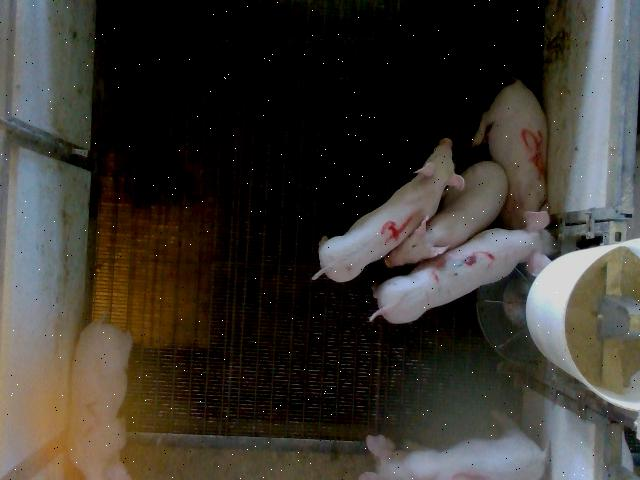pig-1: (360, 428, 546, 479)
pig-2: (68, 321, 131, 478)
pig-3: (370, 211, 558, 323)
pig-4: (312, 139, 462, 282)
pig-5: (471, 76, 548, 229)
